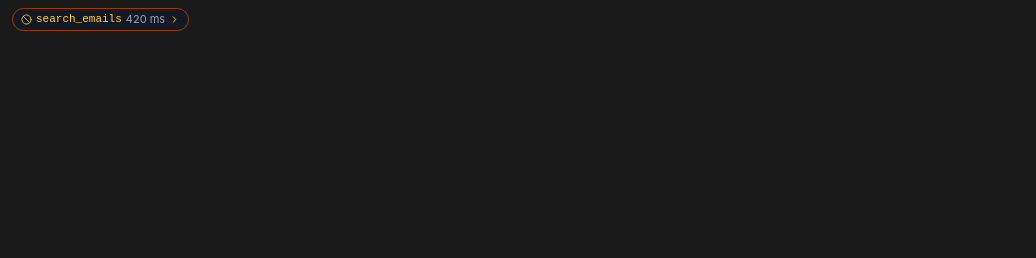
it: ToolCallInspector › copies the call as plain text
The width and height of the screenshot is (1036, 258).
Click the button "search_emails 420 ms" at (101, 19), box left=12, top=8, right=189, bottom=30
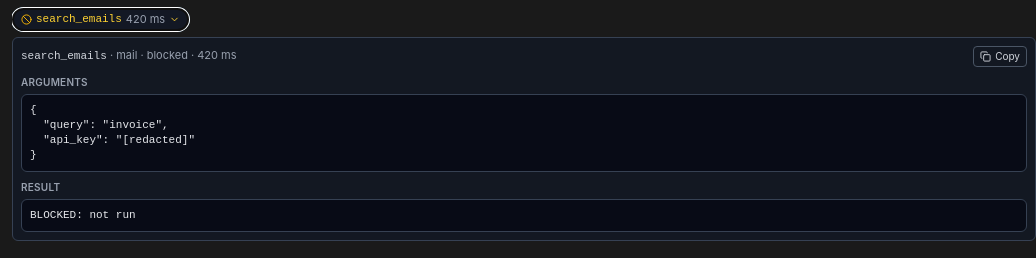
Click the button with aria-label "Copy tool call search_emails" at (1000, 56), box left=973, top=46, right=1027, bottom=66
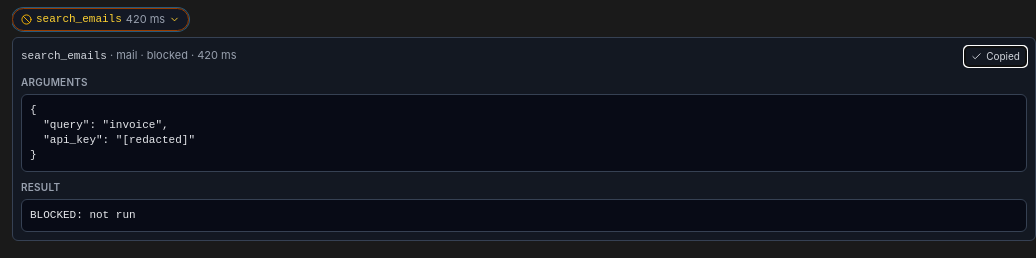
expect the button "Copied" is shown: met, box left=964, top=46, right=1027, bottom=66
